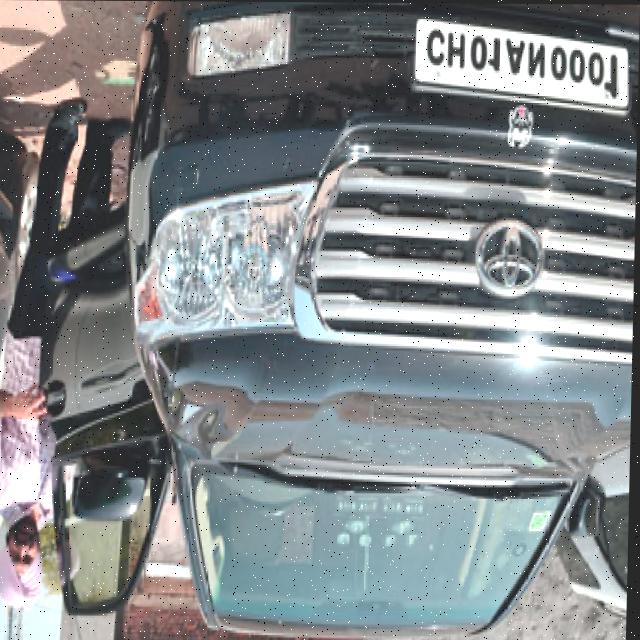plate: (411, 16, 632, 117)
